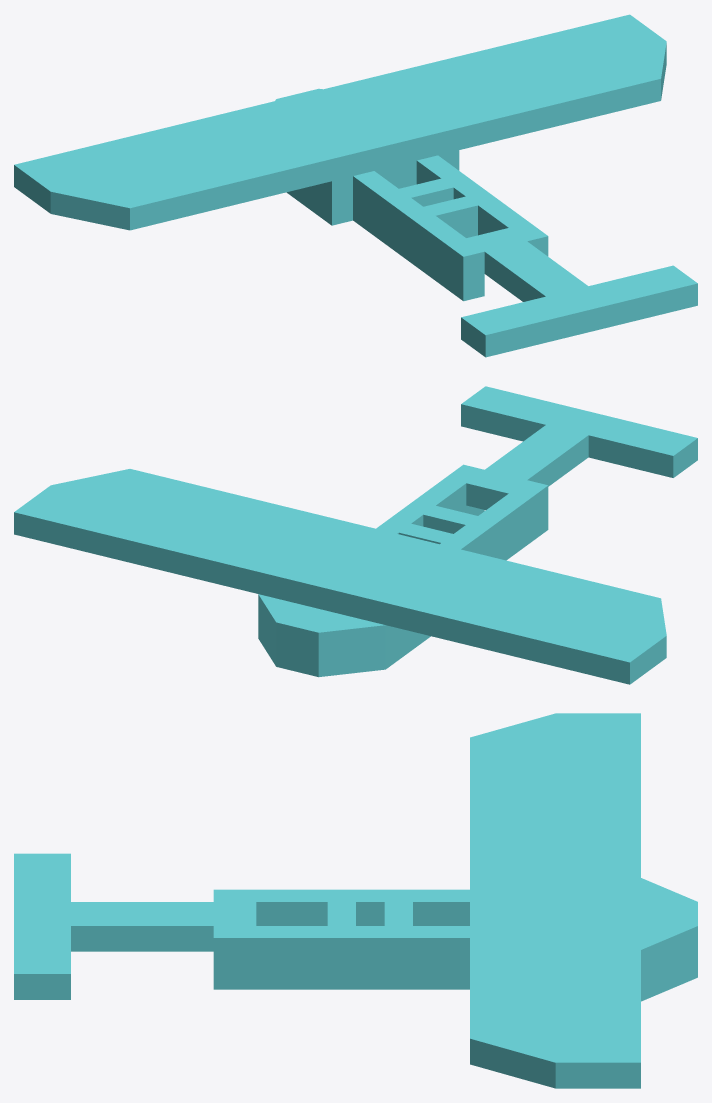
The model's file is L1ACyan.dae.
The picture shows the model from 3 angles, top to bottom: view 1: azimuth 30°, elevation 25°; view 2: azimuth 150°, elevation 25°; view 3: azimuth 270°, elevation 25°; orthographic projection. The views are drawn at different scales.
Visible parts, largest first — view 1: Cube.010; view 2: Cube.010; view 3: Cube.010.
Boxes of the visible parts, x1,y1,x2,y2 form: Cube.010: [14, 14, 697, 357]; Cube.010: [14, 386, 697, 684]; Cube.010: [14, 713, 697, 1088].
Bounding box in the file's own units: 5.8 × 4.8 × 0.6.
